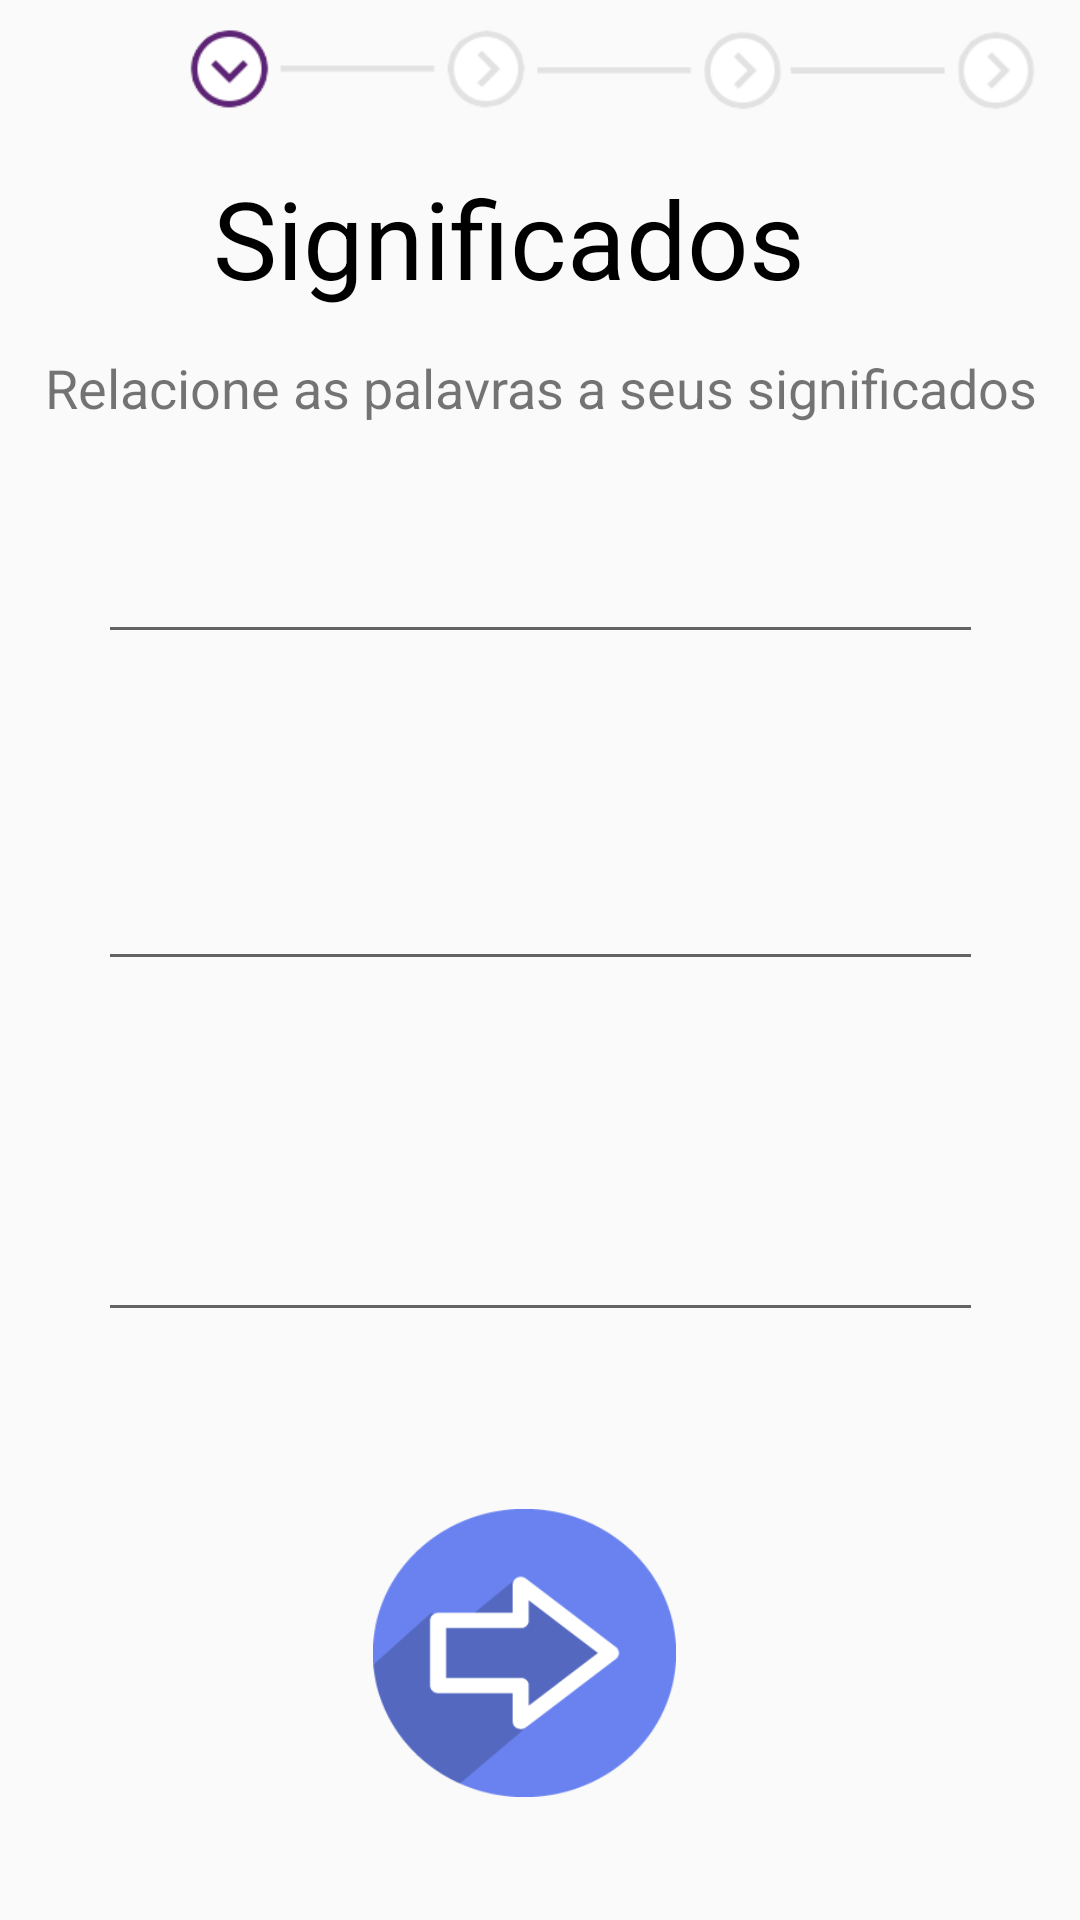

Icon click points for this 1080 × 1920 phone screenshot, format (x=x, y=y):
arrow: (x=524, y=1653)
